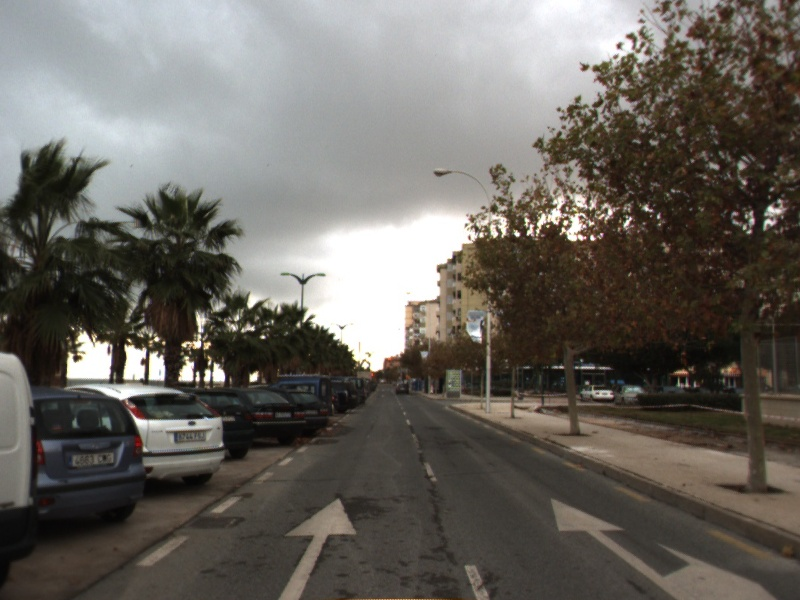STRAIGHT: (275, 496, 360, 600)
STRAIGHT_RIGHT: (549, 496, 783, 600)
